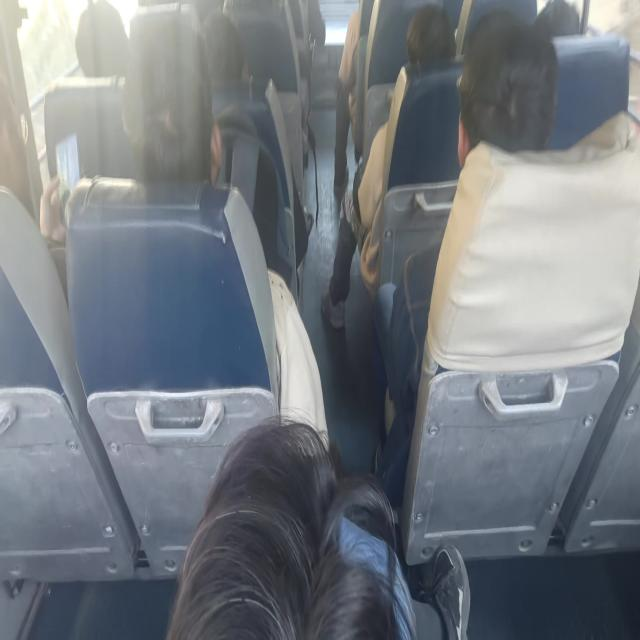person: (199, 419, 407, 640), (116, 31, 221, 196), (449, 28, 550, 176), (59, 12, 134, 95), (195, 14, 264, 92), (0, 82, 41, 203), (406, 4, 457, 91), (531, 0, 583, 49)
